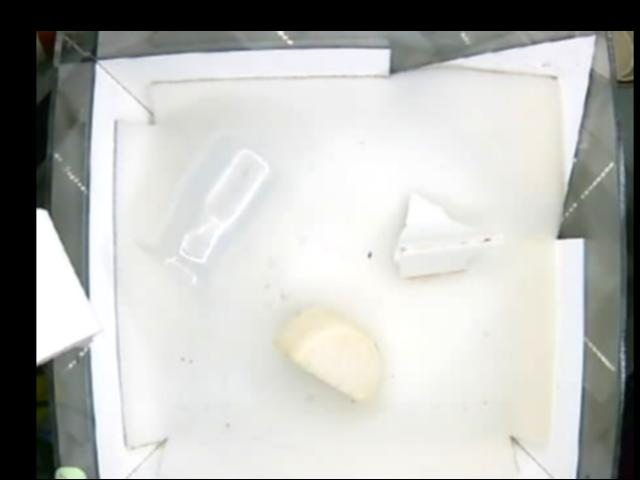Bottle: (133, 140, 281, 294)
China: (393, 192, 502, 278)
Mooli: (273, 309, 385, 396)
